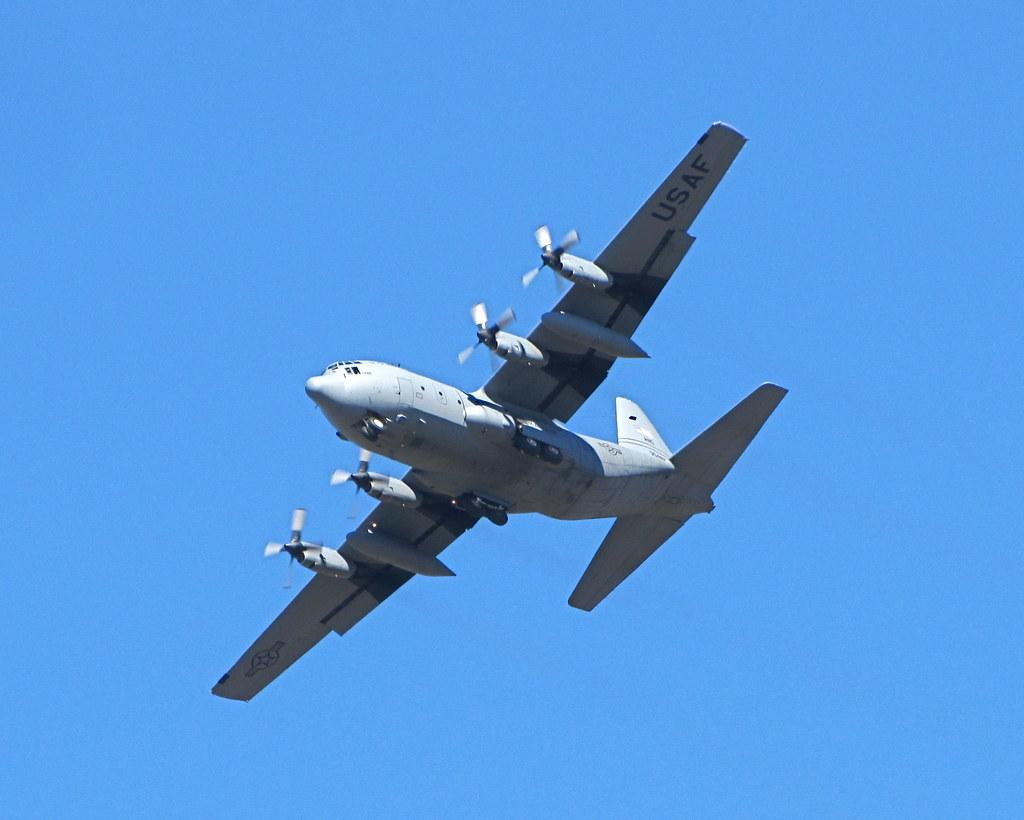plane: (210, 119, 789, 703)
